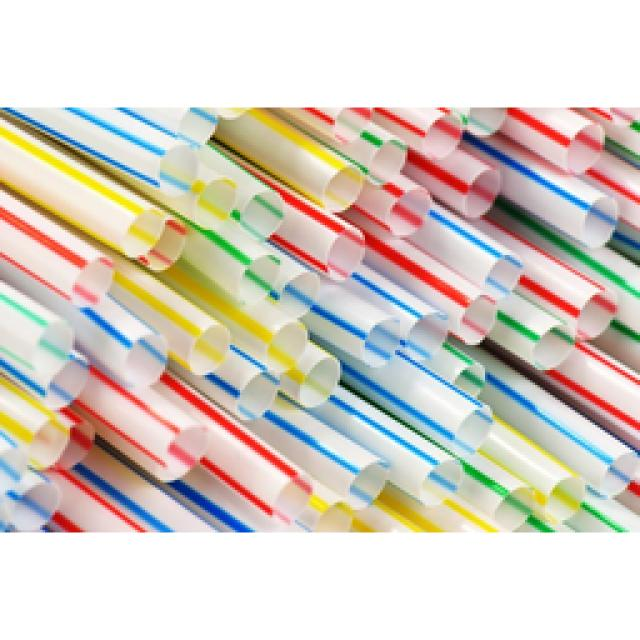plastic: (0, 102, 638, 532)
